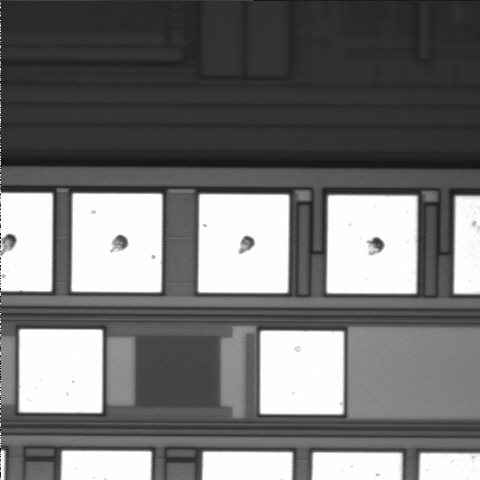pad: (198, 194, 289, 293), (72, 194, 162, 292), (327, 195, 417, 293), (19, 329, 102, 413), (260, 331, 344, 414)
